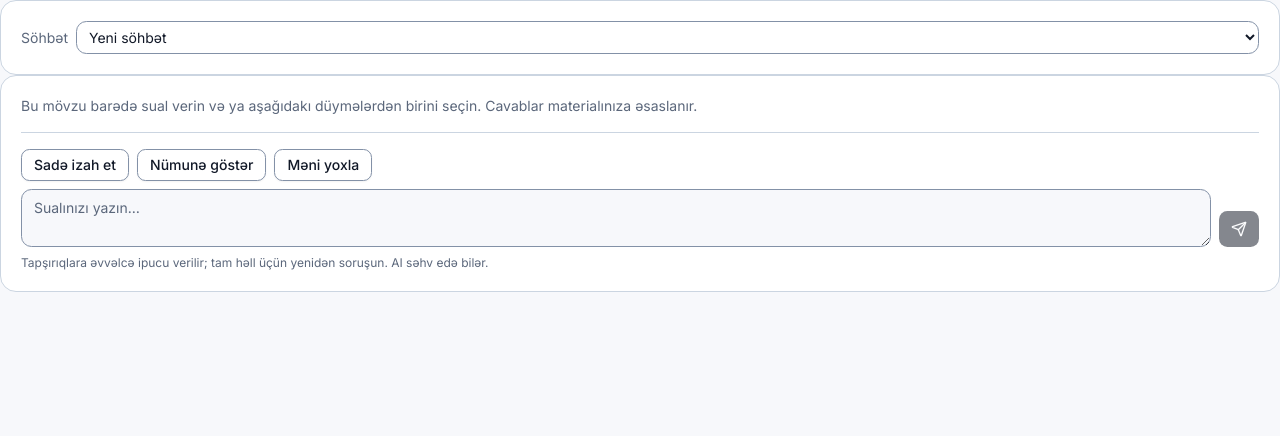
Scenario: Soruş tab › renders a CHECK reply with its sources
The width and height of the screenshot is (1280, 436).
Select "Prosessor · 12.10.2026, 10:00" in the dropdown labelled "Söhbət" at (668, 38), box [76,21,1259,54]
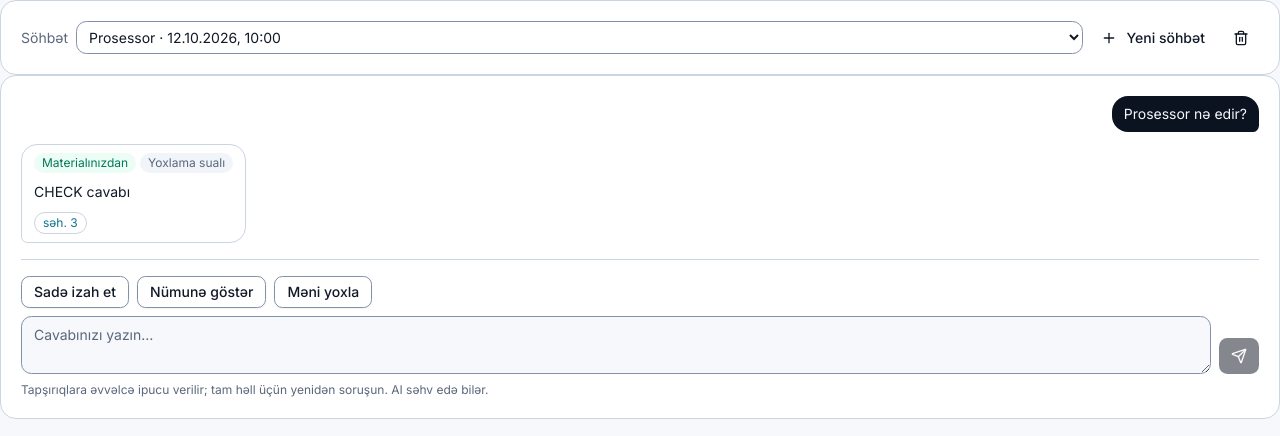
Expected: the text "Materialınızdan" is shown, [34,153,136,173]
Expected: the text "səh. 3" is shown, [34,212,87,234]
Expected: the text "Yoxlama sualı" is shown, [140,153,233,173]
